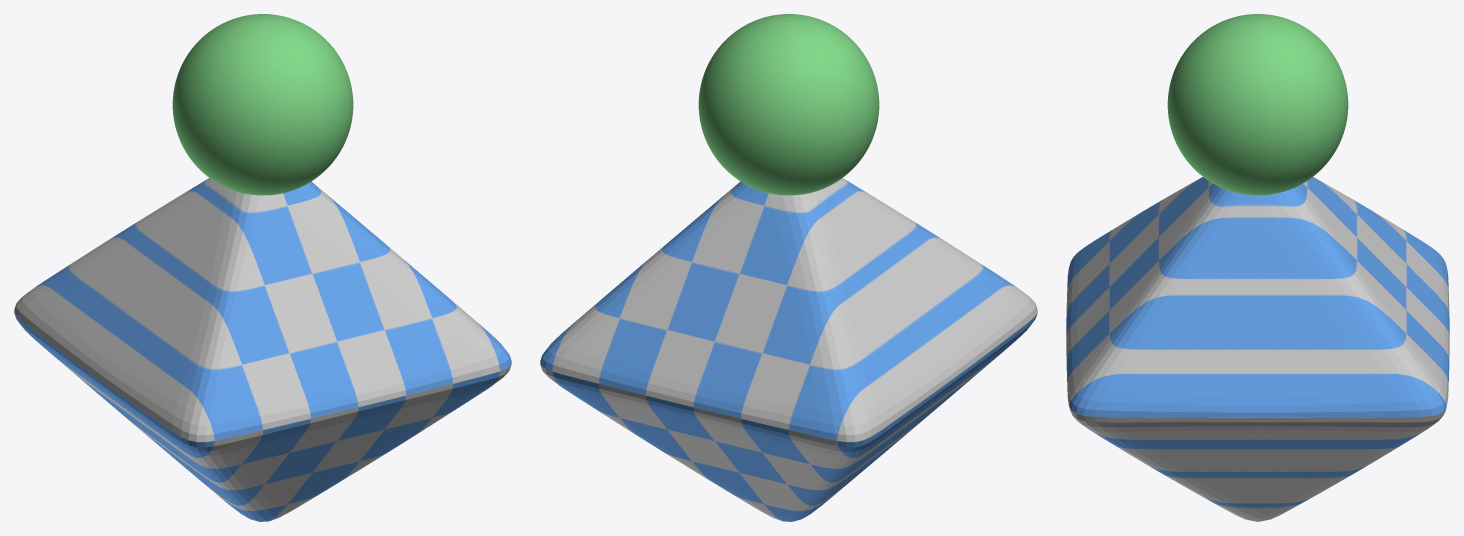
File: BOD4_BMC1_BCC13_BPT4_FRC0_HEA0_HMC13_HCC0_HPT0_ELT0_ERT0_ELL0_ERL0_AP0_AAL0_AAR0_BEK0.fbx
3 renders of one model, left to right at view 1: azimuth 30°, elevation 25°; view 2: azimuth 150°, elevation 25°; view 3: azimuth 270°, elevation 25°, orthographic.
Visible parts, largest first — view 1: Body, Head; view 2: Body, Head; view 3: Body, Head.
Boxes of the visible parts, <box> form: Body: <box>14,178,511,521</box>; Head: <box>172,14,353,195</box>; Body: <box>540,178,1037,521</box>; Head: <box>698,14,879,195</box>; Body: <box>1066,177,1449,521</box>; Head: <box>1167,14,1348,195</box>.
Bounding box in the file's own units: 105 × 150 × 105.
Materials: 2 (2 with a texture image).
